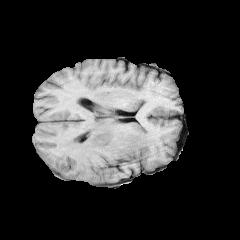glioma: (58, 117, 154, 163)
